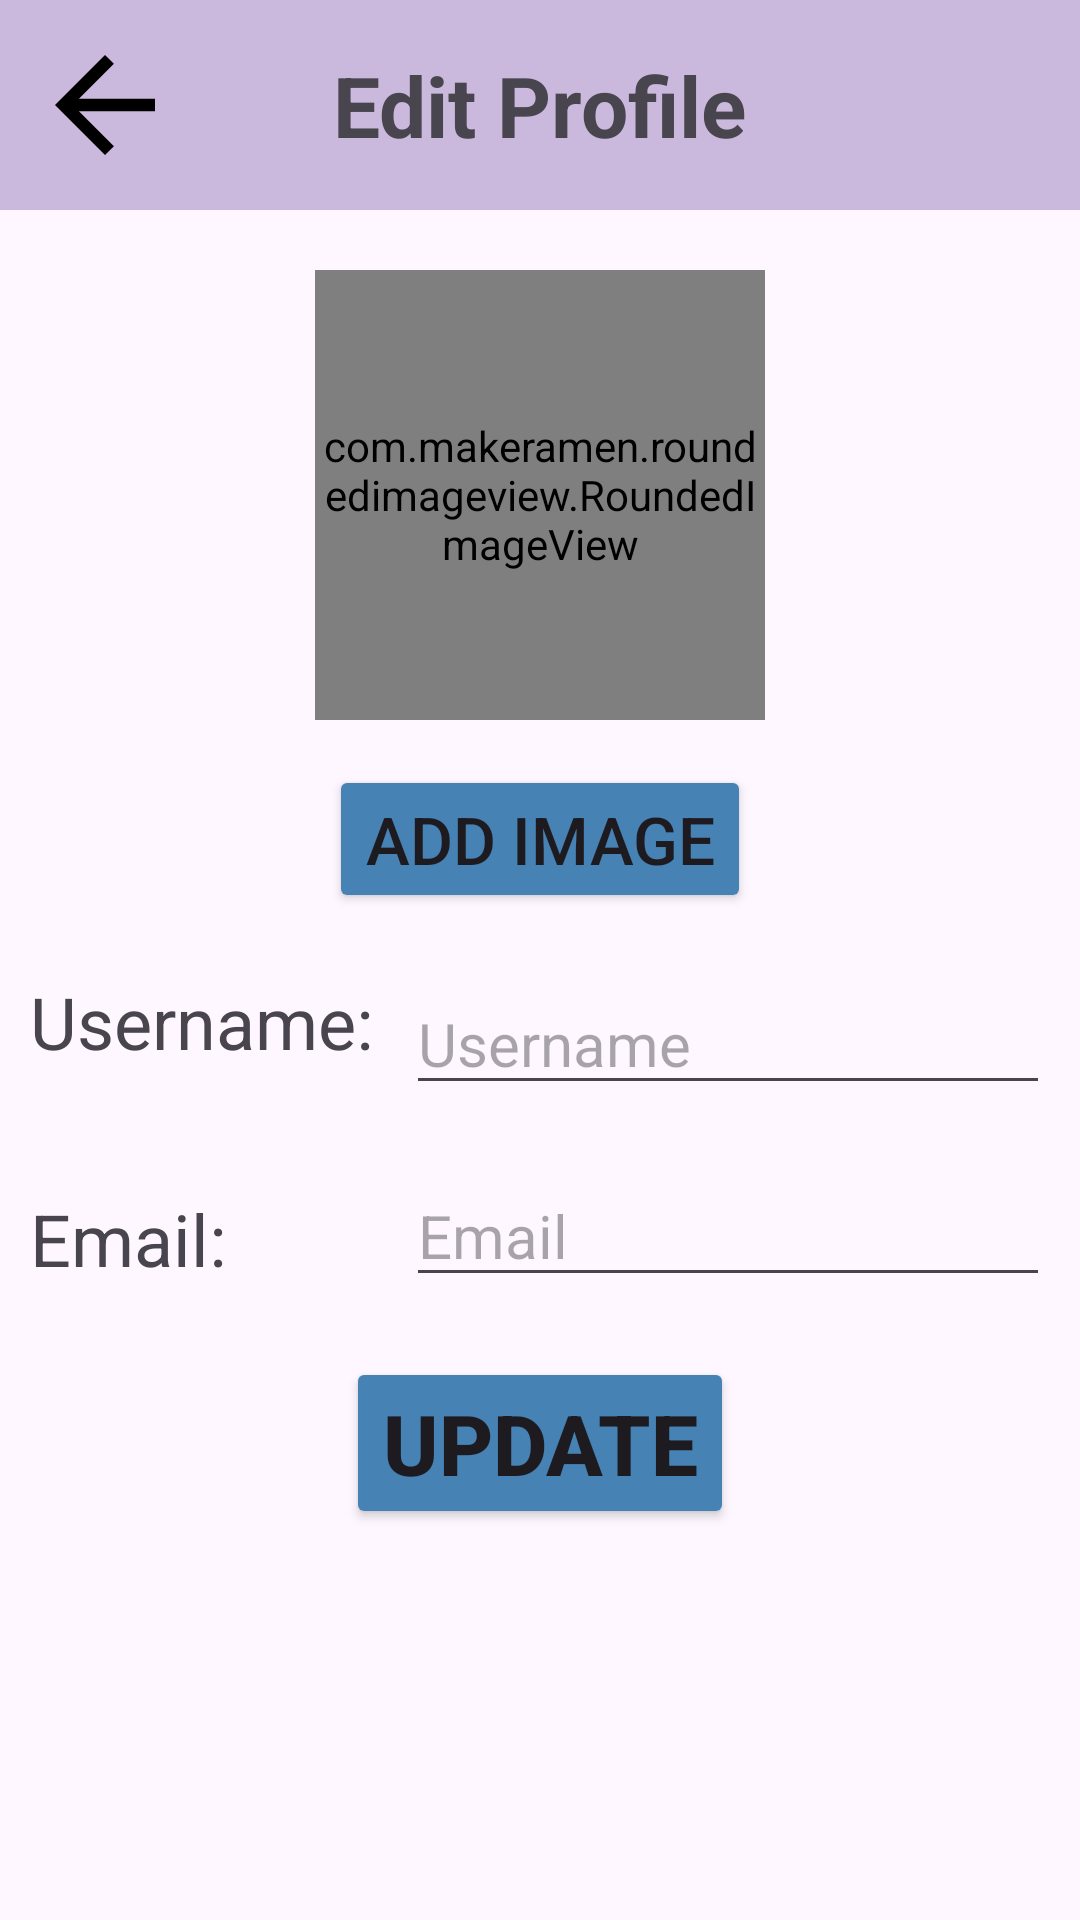

Screen size 1080×1920. Icon name, then its box in pixels as (x1, y1, x2, y2):
back: (55, 55, 155, 155)
